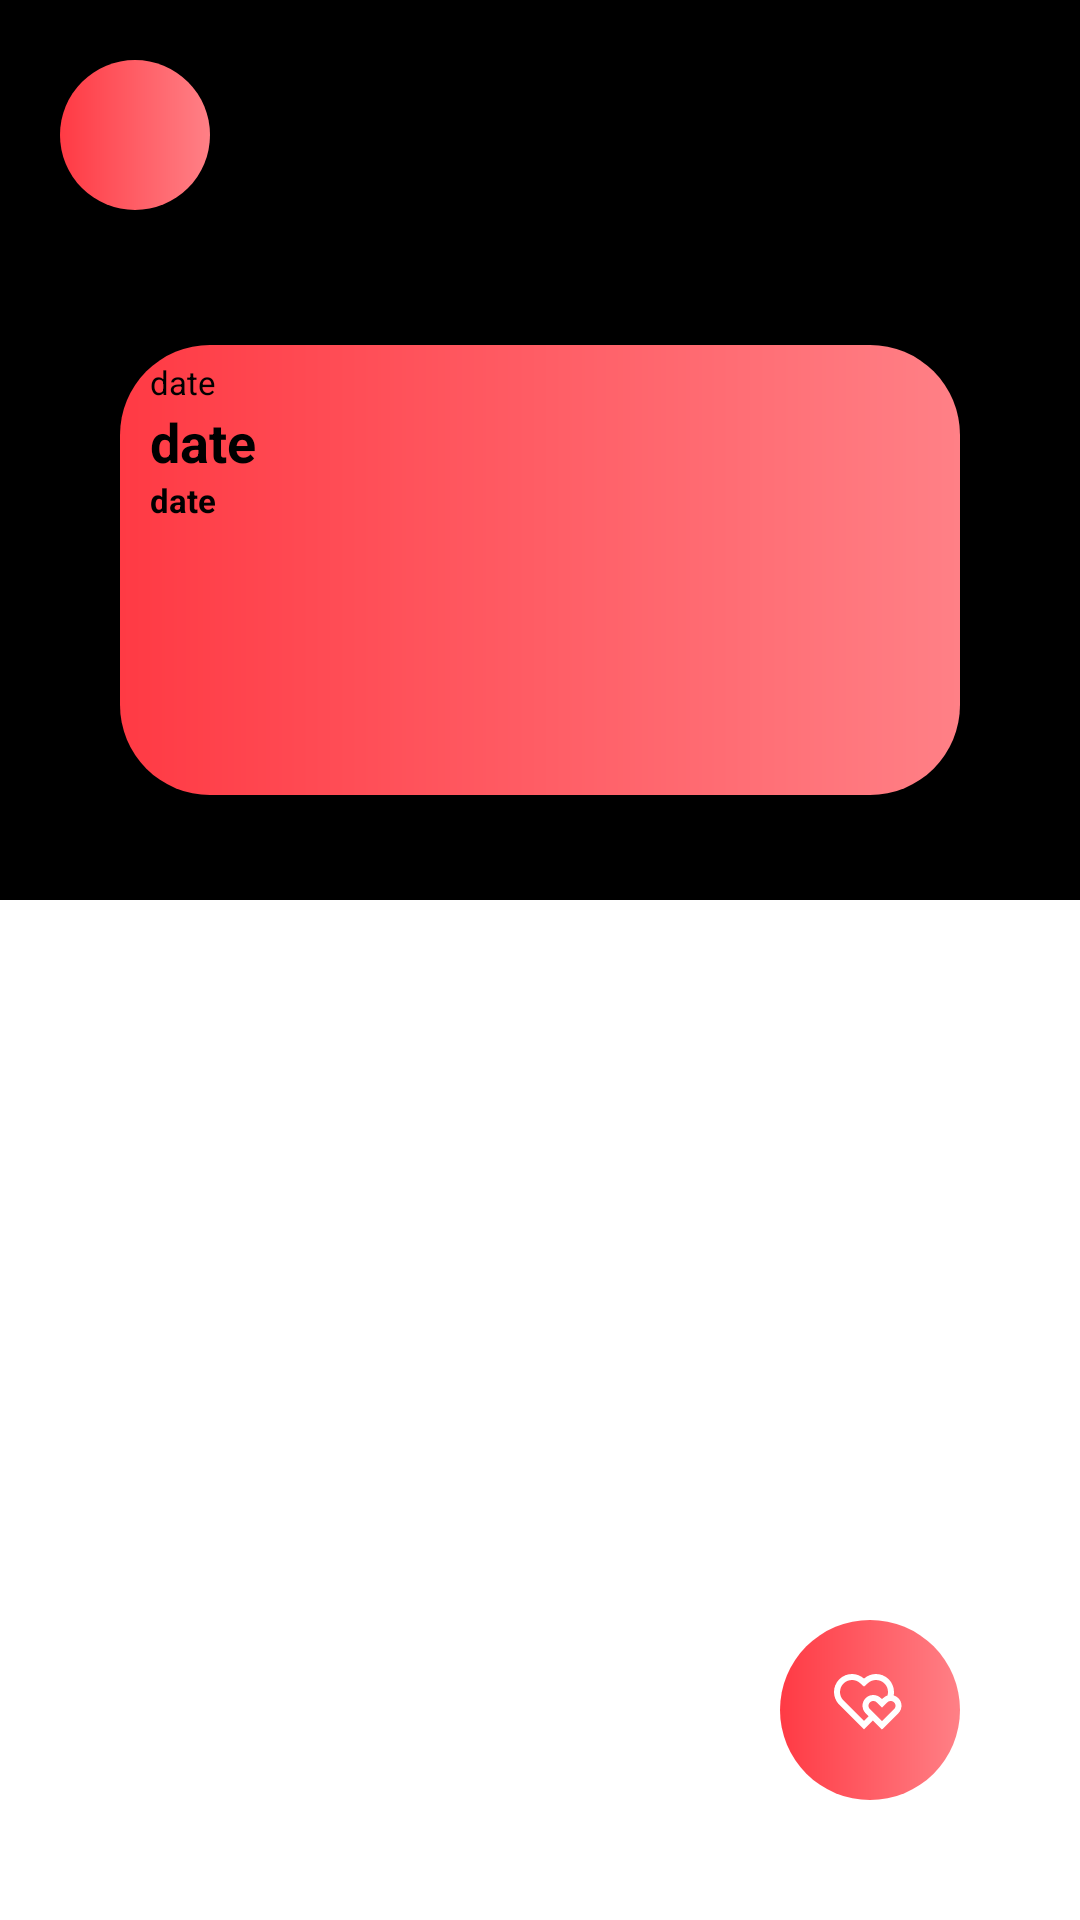

Point at icon controls on the screen. Image size 1080×1920, points as (x,y).
is save: (870,1710)
